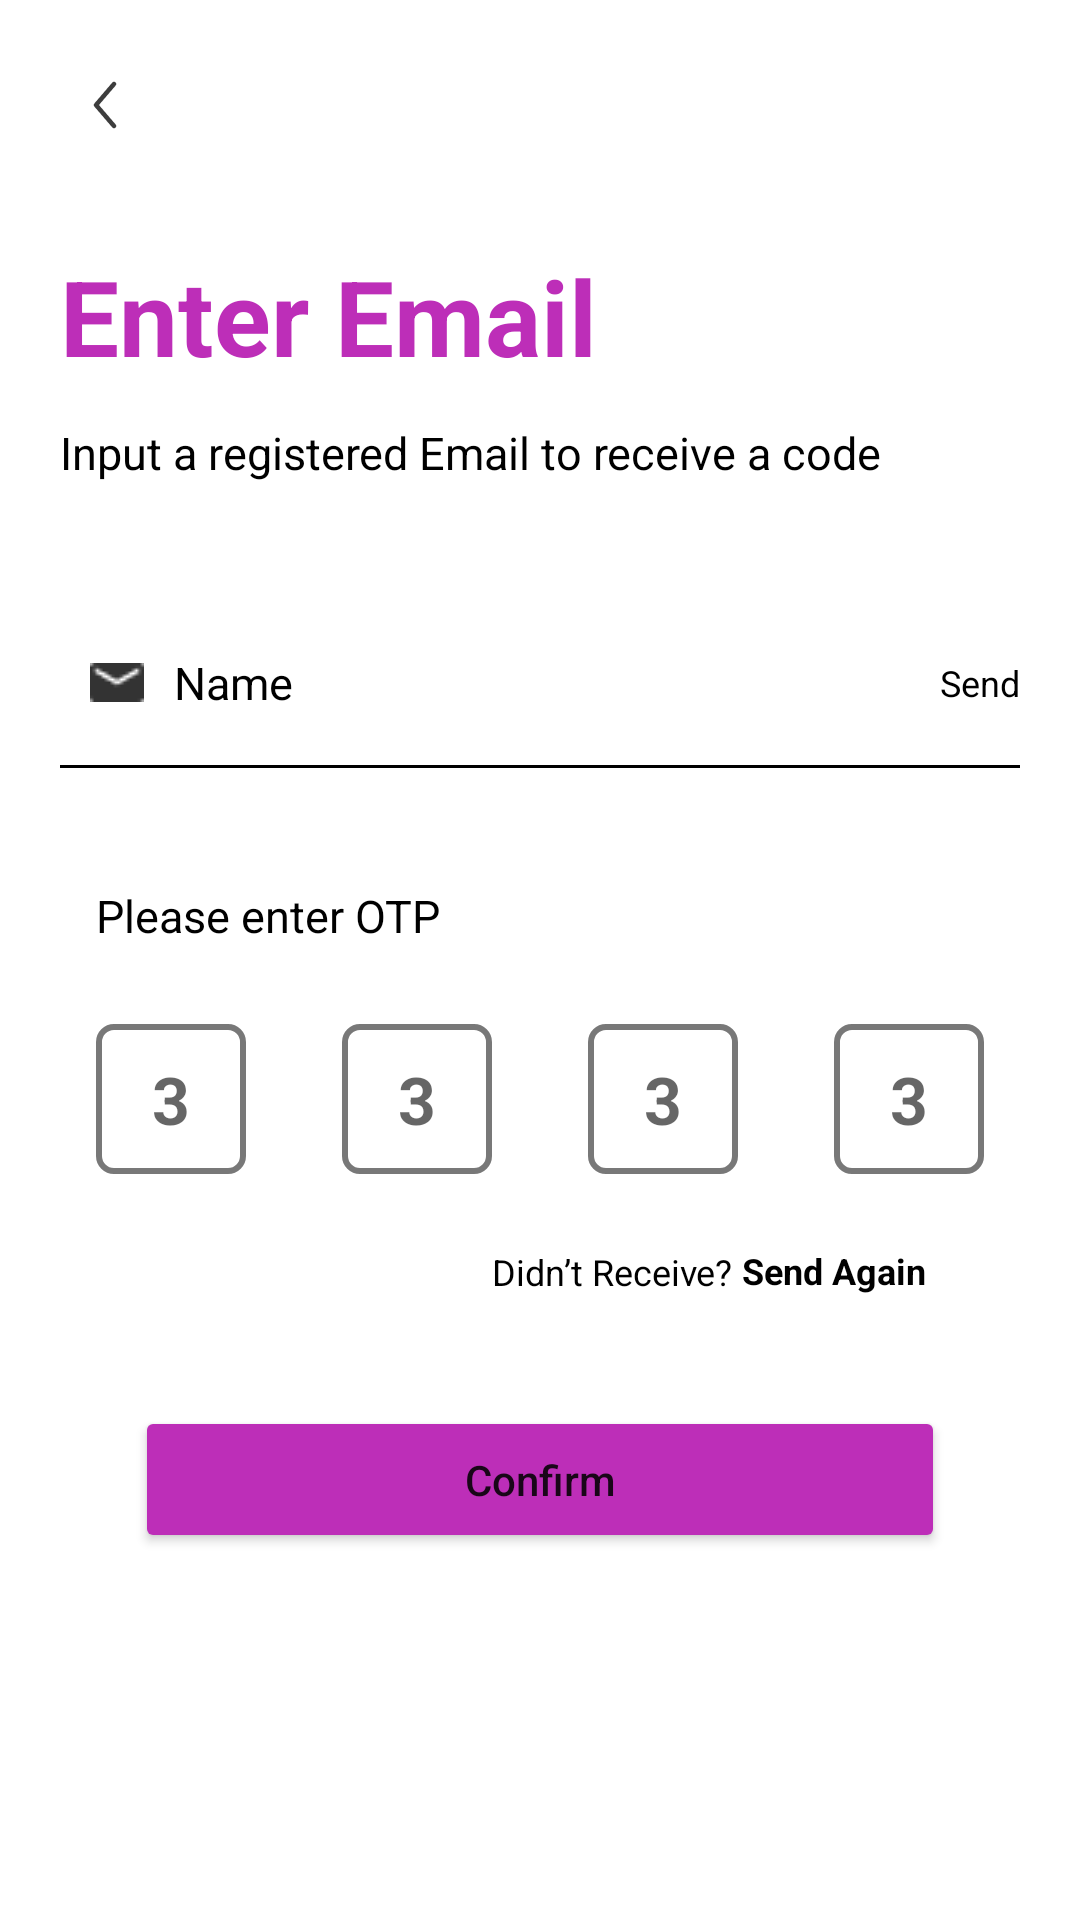

Named icons in this screenshot (1080*1920) and their bounding boxes, (x1, y1, x2, y2):
back arrow: (93, 81, 117, 129)
